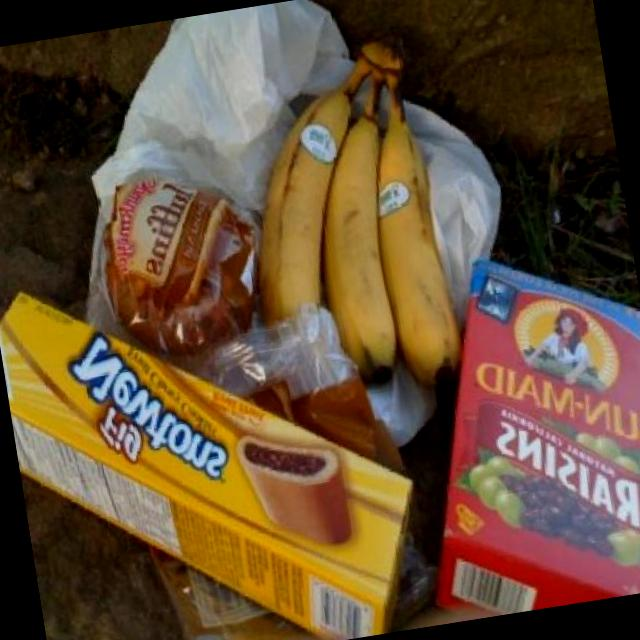Banana: (218, 30, 476, 415)
